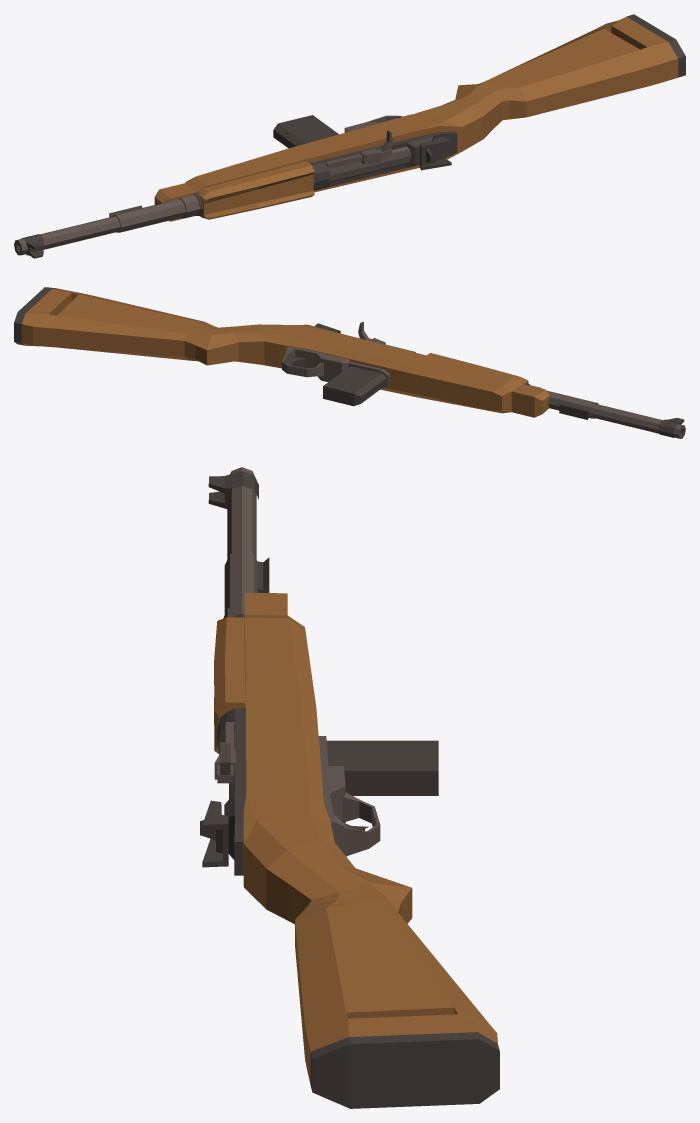
The model's file is M1Carbine_3D.glb.
3 renders of one model, top to bottom at view 1: azimuth 30°, elevation 25°; view 2: azimuth 150°, elevation 25°; view 3: azimuth 270°, elevation 25°, orthographic. The views are drawn at different scales.
Parts seen in each view (by area): view 1: Cube, Cube.001; view 2: Cube, Cube.001; view 3: Cube, Cube.001.
Boxes of the visible parts, left/top/right/bottom form: Cube: left=14, top=14, right=685, bottom=258; Cube.001: left=273, top=115, right=338, bottom=148; Cube: left=14, top=287, right=685, bottom=438; Cube.001: left=323, top=366, right=387, bottom=406; Cube: left=200, top=467, right=499, bottom=1108; Cube.001: left=326, top=740, right=438, bottom=795.
Size of the model in its own units: 1.02 by 0.0705 by 0.2167.
Materials: 1 (1 with a texture image).
